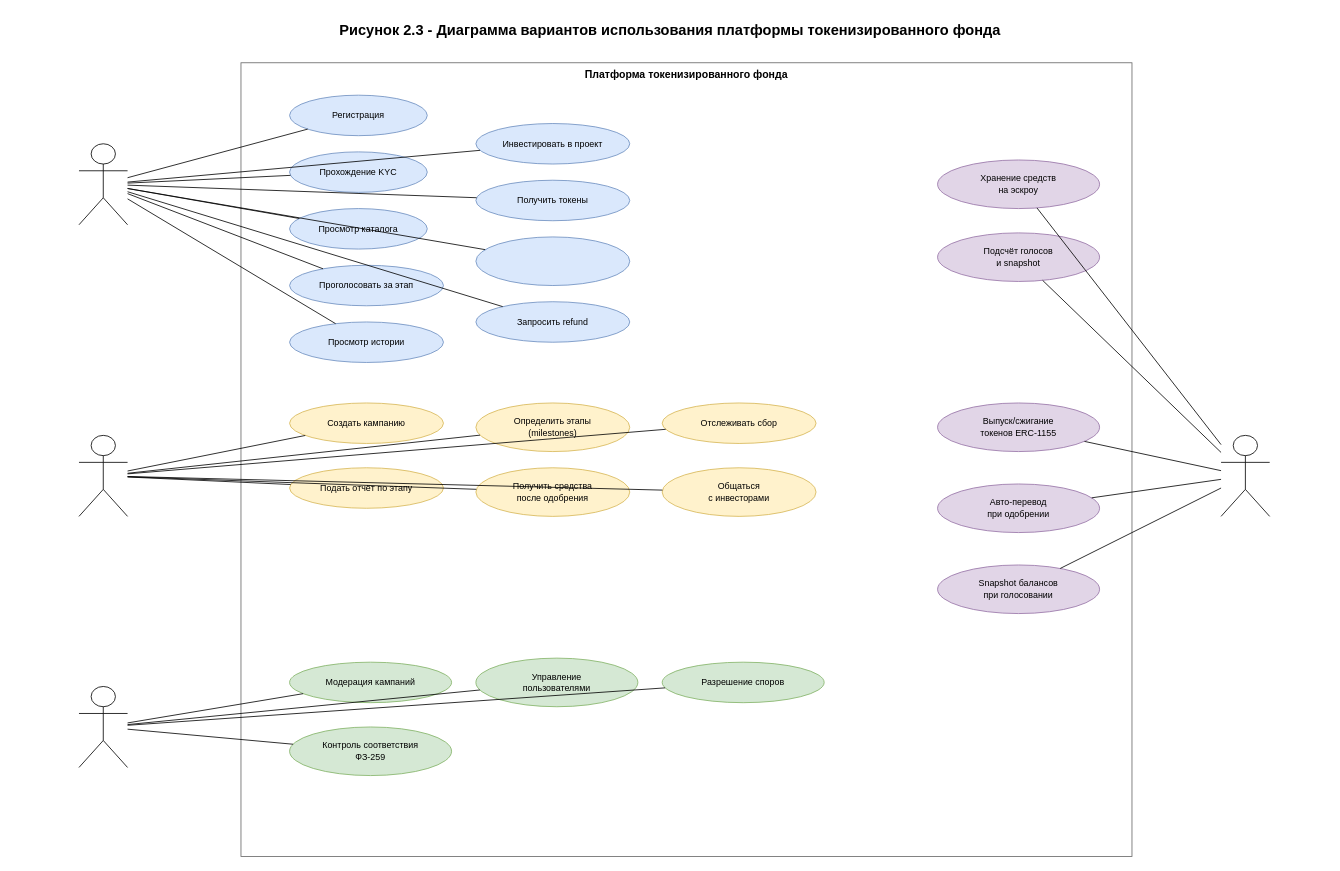
The diagram is 1340 pixels wide and 871 high, and some of its shapes have lost their labels. The shapes that lost their labels are listed below. From the top down, each one's box as (x1, y1, x2, y2) in pixels, then its label:
(78, 143, 128, 225): Инвестор
(475, 236, 630, 286): Продать токены на вторичном рынке
(78, 435, 128, 516): Автор проекта
(1220, 435, 1270, 516): Смарт-контракт (внешняя система)
(78, 686, 128, 767): Администратор платформы
